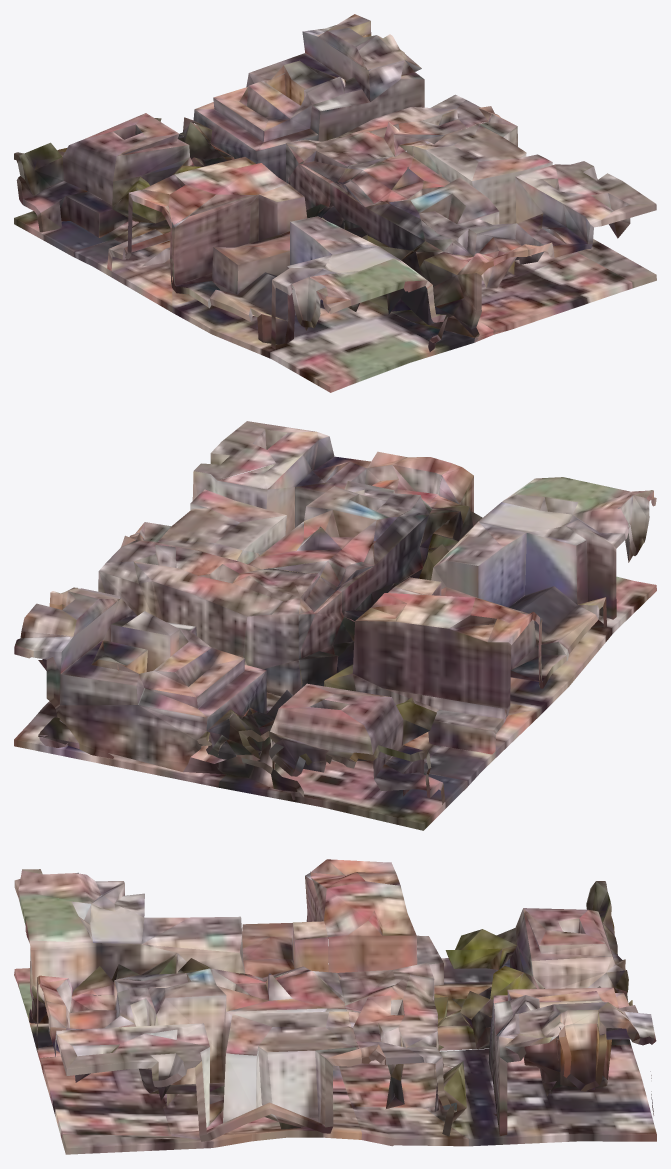
3 views of the same model, one above another, from view 1: azimuth 30°, elevation 25°; view 2: azimuth 150°, elevation 25°; view 3: azimuth 270°, elevation 25° (orthographic). The views are drawn at different scales.
Visible parts, largest first — view 1: Mesh_0; view 2: Mesh_0; view 3: Mesh_0.
Boxes of the visible parts, bbox=[...] form: Mesh_0: bbox=[14, 14, 656, 392]; Mesh_0: bbox=[14, 421, 656, 830]; Mesh_0: bbox=[14, 859, 656, 1154].
Bounding box in the file's own units: 133 × 37.95 × 165.
Materials: 1 (1 with a texture image).
